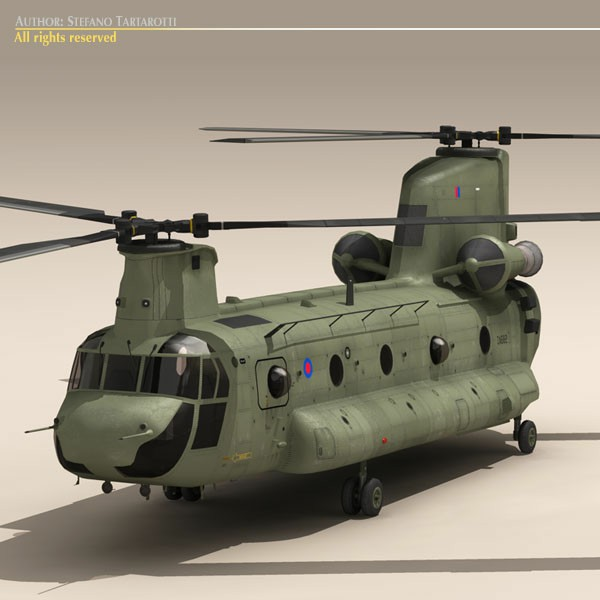chinook: (35, 117, 595, 515)
